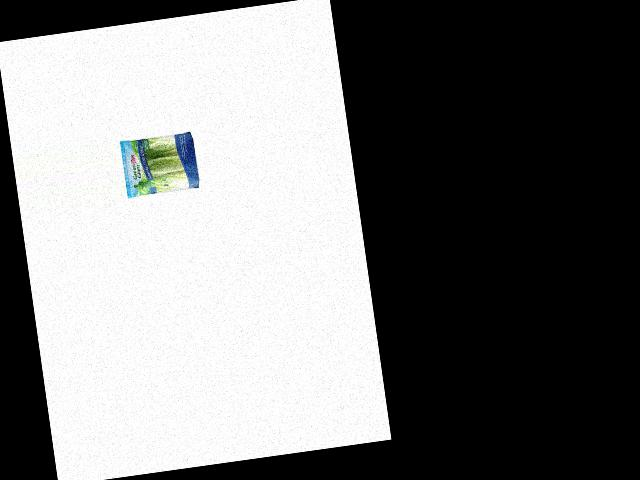lettuce: (122, 130, 203, 199)
